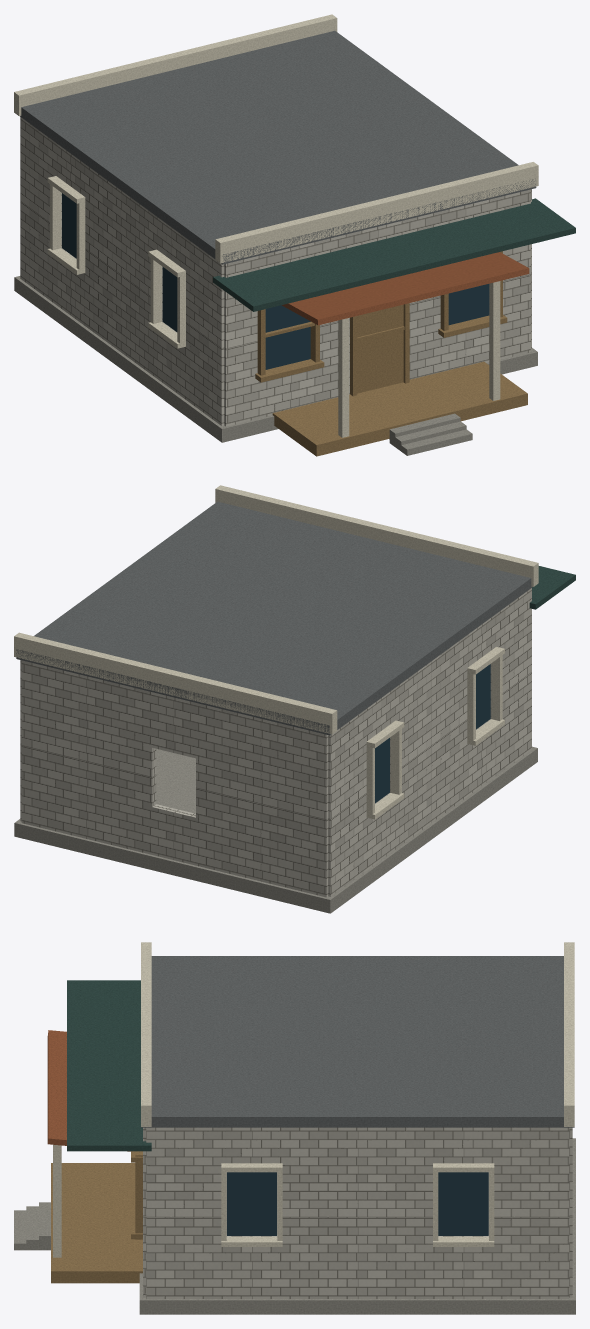
Rendered from SHOPD2_lod2.glb.
3 views of the same model, one above another, from view 1: azimuth 30°, elevation 25°; view 2: azimuth 150°, elevation 25°; view 3: azimuth 270°, elevation 25° (orthographic). The views are drawn at different scales.
Parts seen in each view (by area): view 1: SHOPD2_LOD2; view 2: SHOPD2_LOD2; view 3: SHOPD2_LOD2.
Part boxes in pixels (left/top/right/bottom): SHOPD2_LOD2: left=14, top=14, right=575, bottom=456; SHOPD2_LOD2: left=14, top=485, right=575, bottom=913; SHOPD2_LOD2: left=14, top=942, right=575, bottom=1314.
Size of the model in its own units: 7.51 by 4.38 by 10.62.
9 materials, 7 textured.
